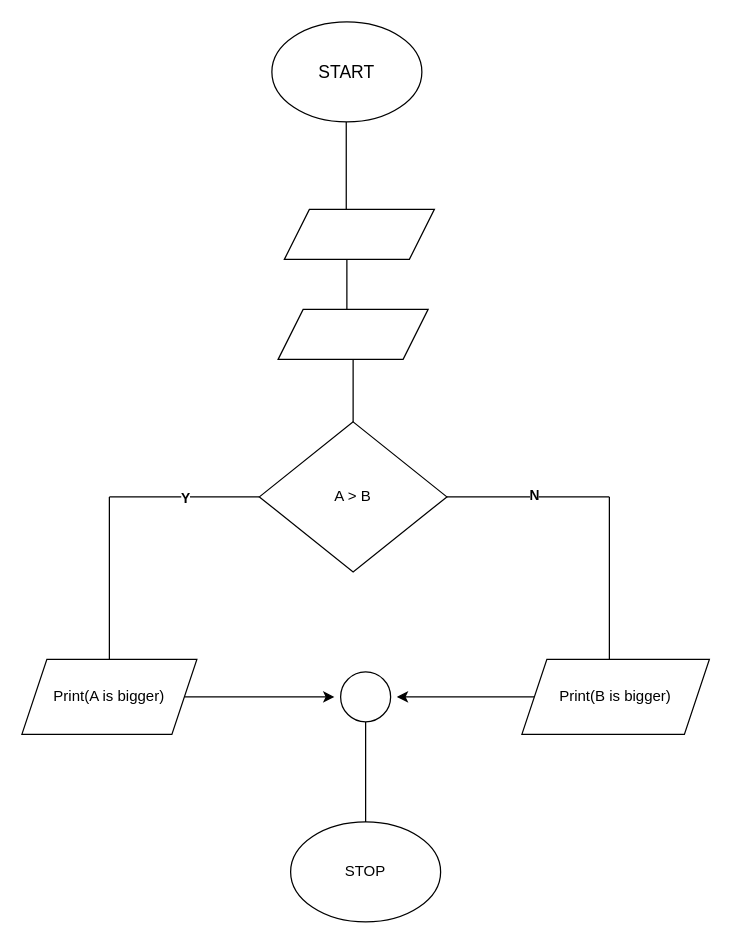
The diagram is 731 pixels wide and 944 high, and some of its shapes have lost their labels. Here are the shapes that lost their labels. From the top down, the centre of each, then its label:
point 358,233: input numberA
point 352,333: input number B
